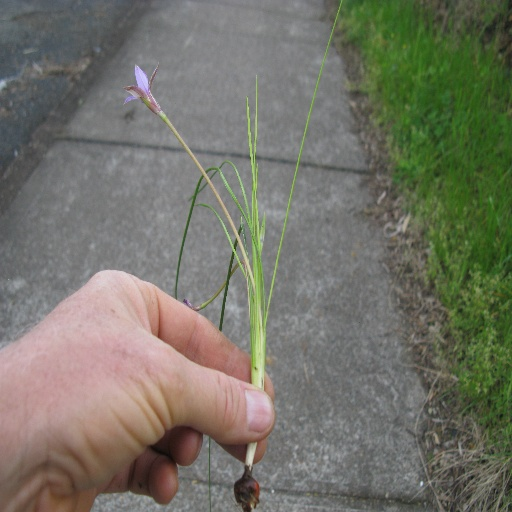hand: (0, 248, 281, 512)
